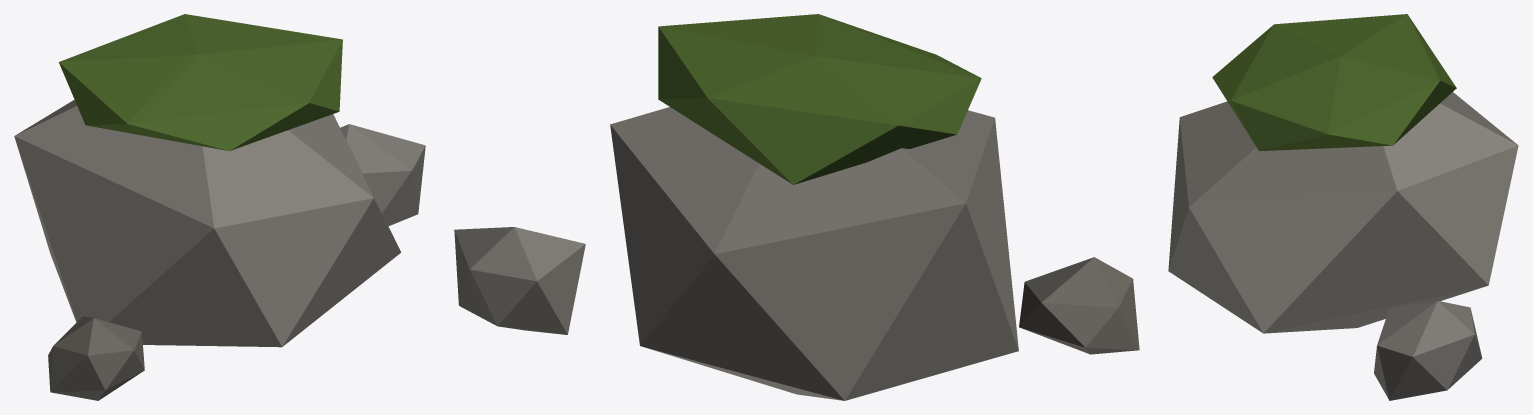
File: rock_3.glb
3 renders of one model, left to right at view 1: azimuth 30°, elevation 25°; view 2: azimuth 150°, elevation 25°; view 3: azimuth 270°, elevation 25°, orthographic. The views are drawn at different scales.
Parts seen in each view (by area): view 1: Rock3; view 2: Rock3; view 3: Rock3.
Boxes of the visible parts, x1,y1,x2,y2 form: Rock3: [14, 14, 425, 400]; Rock3: [454, 14, 1139, 400]; Rock3: [1168, 14, 1518, 400].
Size of the model in its own units: 1.69 by 0.945 by 1.12.
